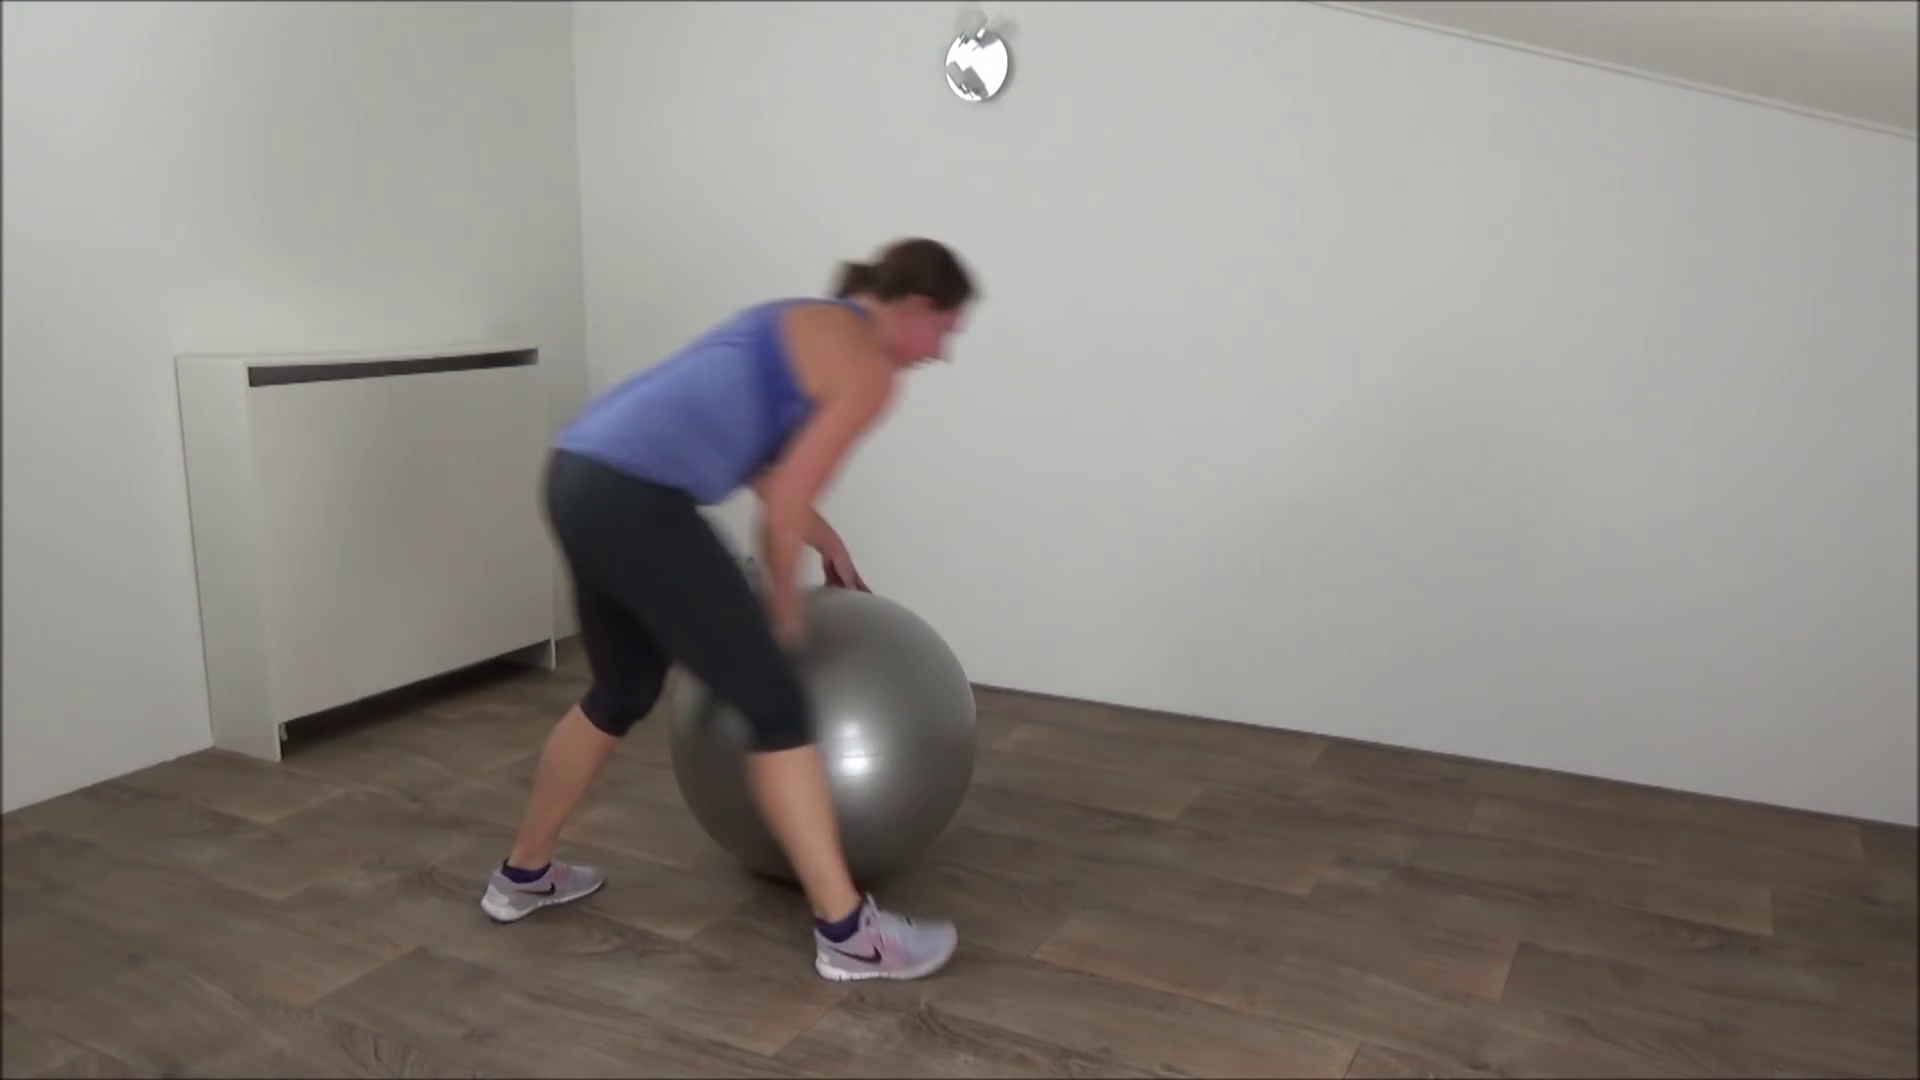yogaball: (662, 570, 989, 891)
